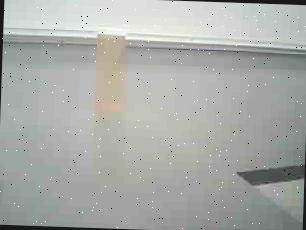Bottle A: (88, 22, 136, 125)
